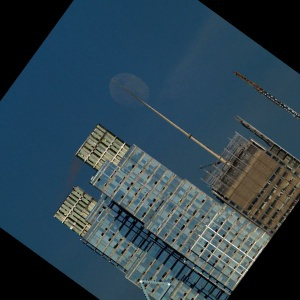triangle: (136, 277, 173, 300)
